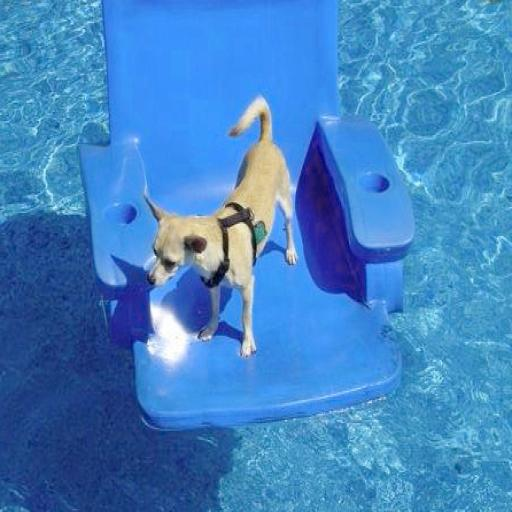dog_face: (137, 195, 210, 296)
